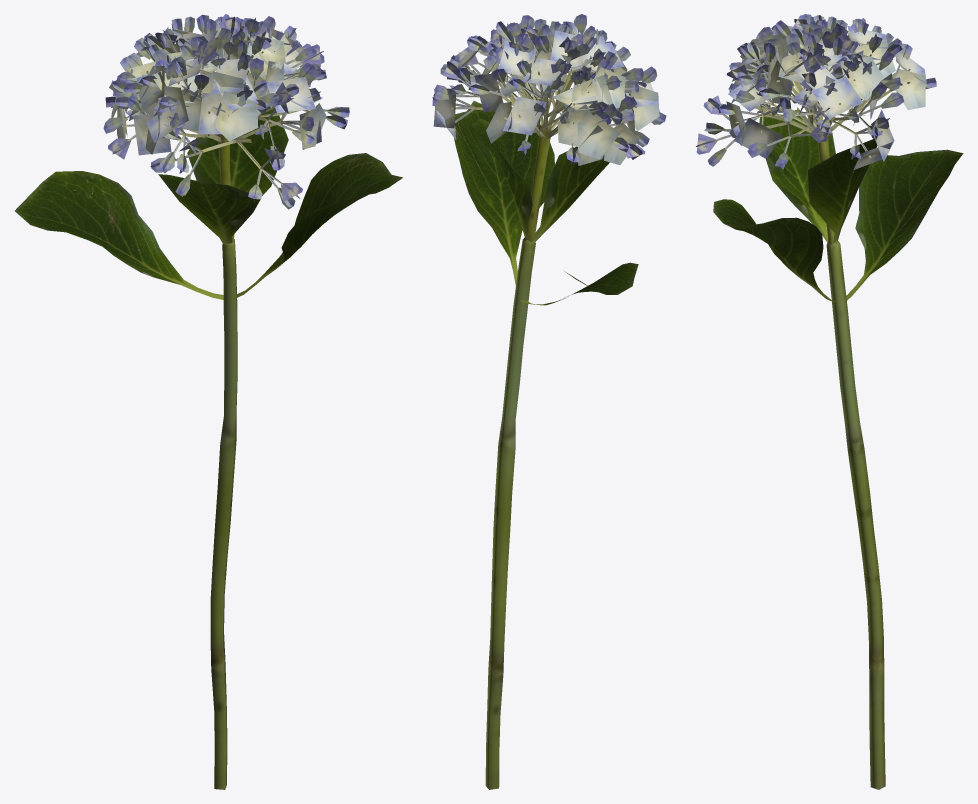
File: Hydrangea_baby_normal_purple.glb
3 views of the same model, side by side, from view 1: azimuth 30°, elevation 25°; view 2: azimuth 150°, elevation 25°; view 3: azimuth 270°, elevation 25° (orthographic). The views are drawn at different scales.
Visible parts, largest first — view 1: BABY; view 2: BABY; view 3: BABY.
Part boxes in pixels (x1,y1,x2,y2): BABY: [15, 14, 402, 789]; BABY: [432, 14, 666, 789]; BABY: [696, 14, 963, 789].
Size of the model in its own units: 0.7928 by 2.22 by 0.7195.
Materials: 1 (1 with a texture image).
